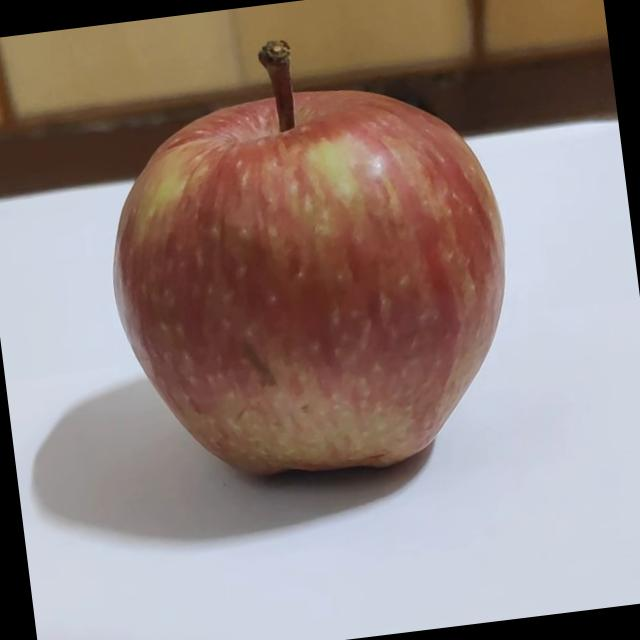apple: (75, 16, 533, 514)
